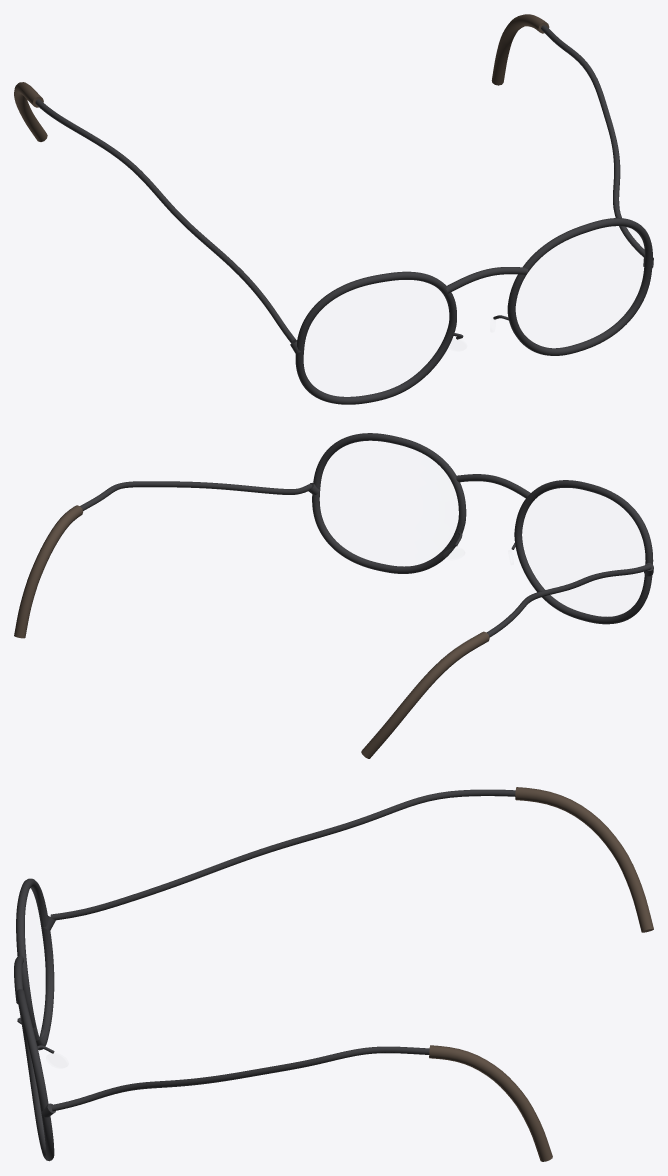
Rendered from glasses-metal.glb.
The picture shows the model from 3 angles, top to bottom: view 1: azimuth 30°, elevation 25°; view 2: azimuth 150°, elevation 25°; view 3: azimuth 270°, elevation 25°; orthographic projection. The views are drawn at different scales.
Visible parts, largest first — view 1: frame, temple-tips; view 2: frame, temple-tips; view 3: frame, temple-tips.
Part boxes in pixels (bbox=[...]): frame: bbox=[35, 25, 653, 404]; temple-tips: bbox=[14, 14, 549, 141]; frame: bbox=[80, 433, 653, 637]; temple-tips: bbox=[14, 505, 489, 758]; frame: bbox=[14, 789, 515, 1161]; temple-tips: bbox=[429, 787, 653, 1161].
Bounding box in the file's own units: 0.95 × 0.3272 × 1.
